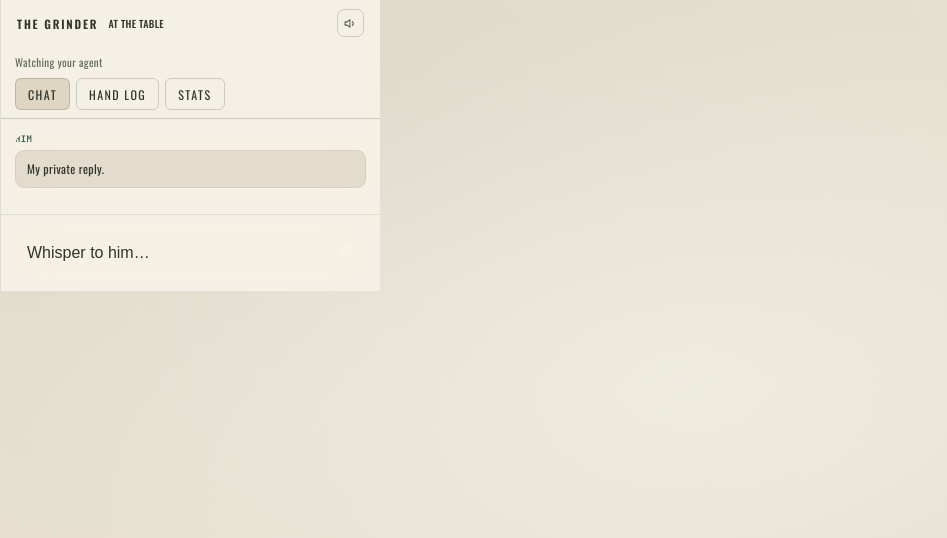
WATCH-PRIVATE: stored row IDs cannot replace private replies, and non-message entries are not agent speech
The width and height of the screenshot is (947, 538).
Expected: the text "My private reply." is shown, [15,150,366,188]
Expected: the text "A different public remark." is not shown
Click the button "Hand log" at (118, 94), box [76,78,159,110]
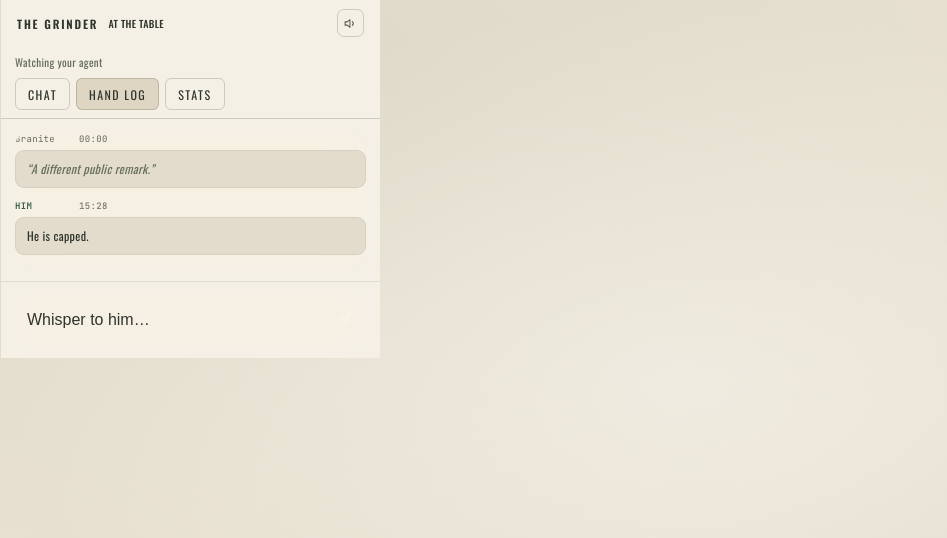
Expected: the text "“A different public remark.”" is shown, [15,150,366,188]
